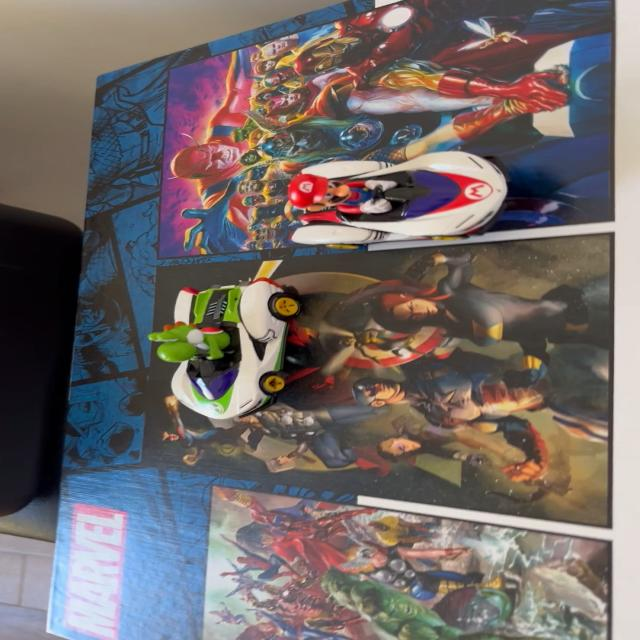mario: (272, 141, 531, 253)
yoshi: (141, 269, 319, 438)
